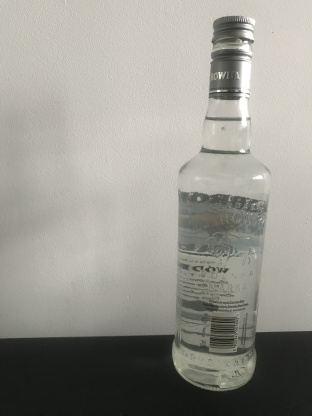nakretka: (207, 13, 256, 100)
